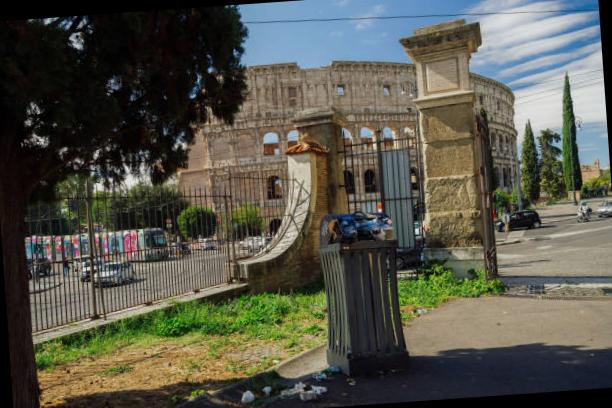trash: (325, 205, 402, 245), (272, 372, 331, 404), (224, 372, 271, 406), (308, 361, 342, 383), (413, 300, 434, 320)
trash_can_overflow: (305, 195, 428, 377)
